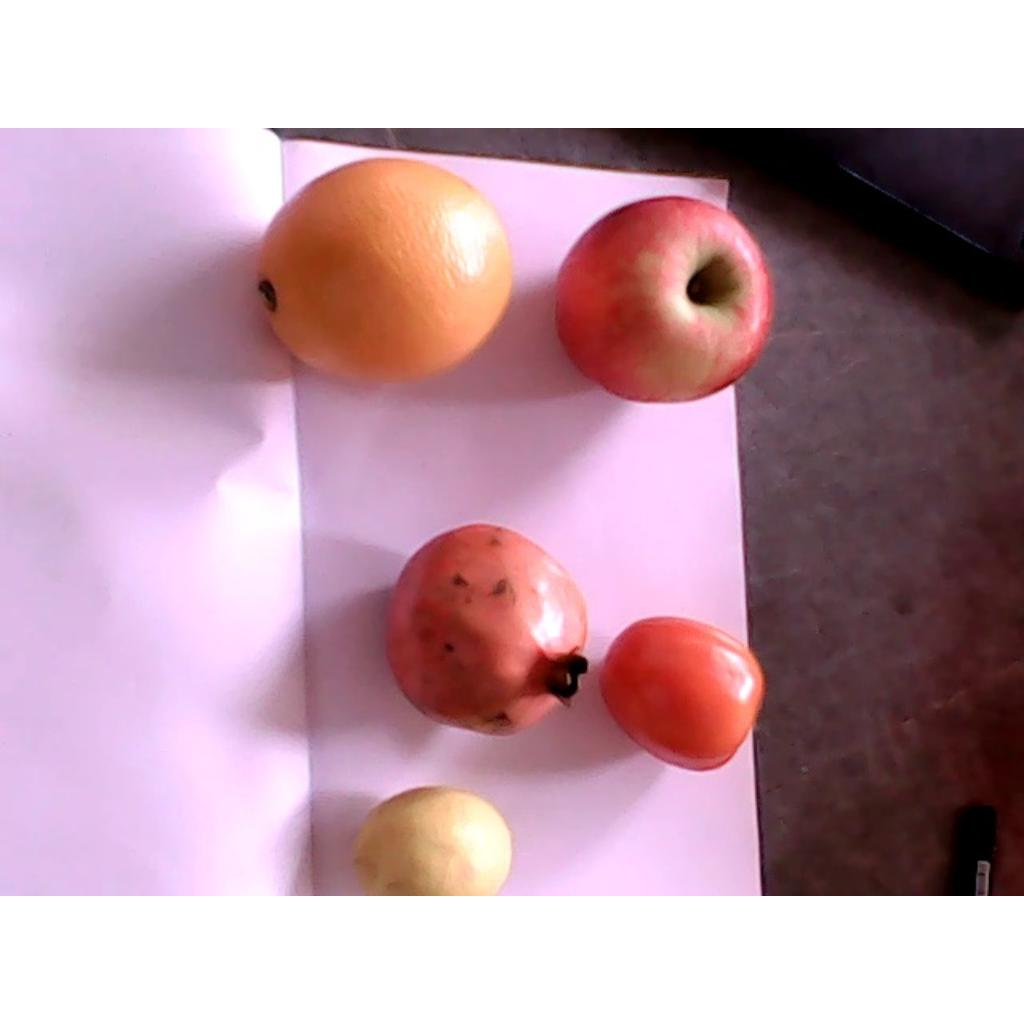apple: (556, 195, 772, 405)
lemon: (351, 786, 512, 894)
orange: (254, 157, 513, 384)
pomegranate: (386, 523, 592, 739)
tomato: (600, 615, 765, 772)
